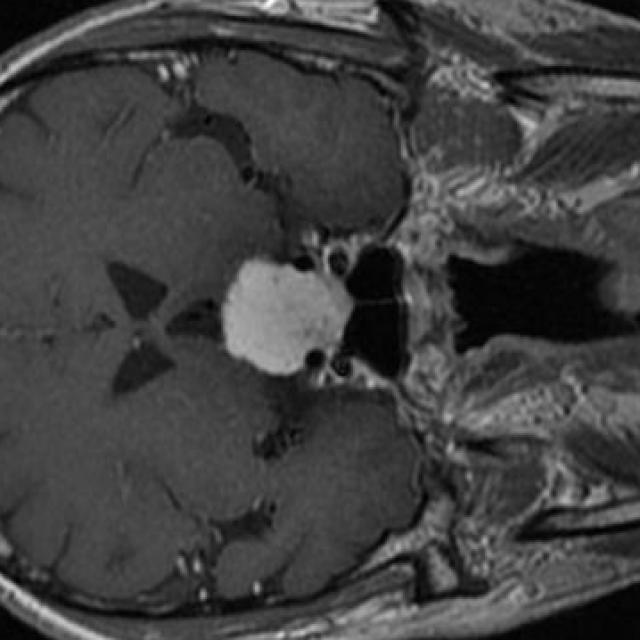meningioma: (221, 260, 353, 376)
